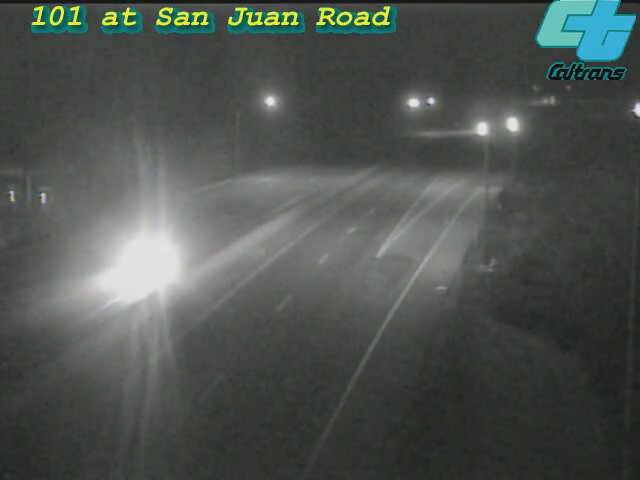vehicle: (110, 218, 190, 298), (457, 105, 507, 155), (486, 99, 536, 149), (612, 85, 640, 135)
